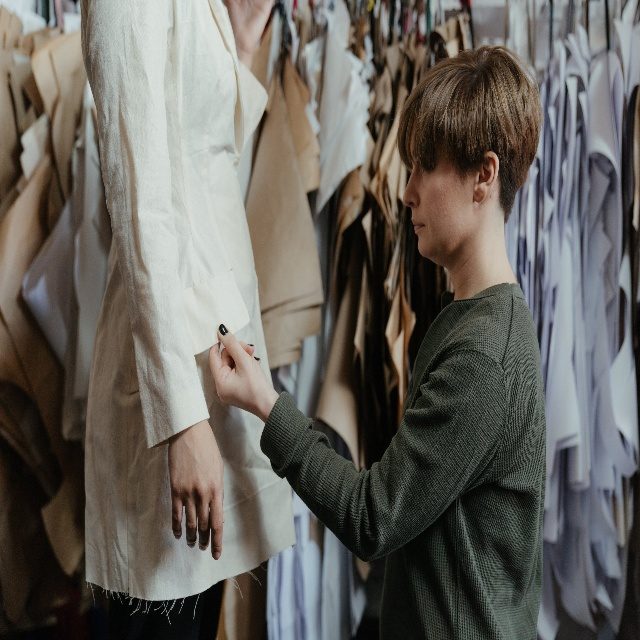Sin_guantes: (169, 421, 225, 562), (209, 324, 273, 417), (226, 0, 271, 53)
